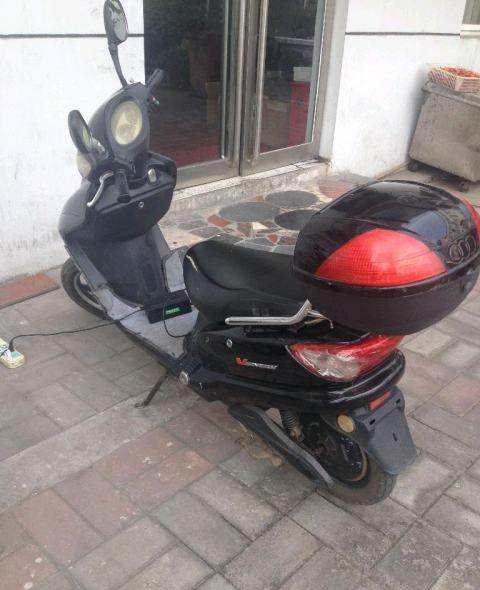电动车: (26, 1, 478, 511)
